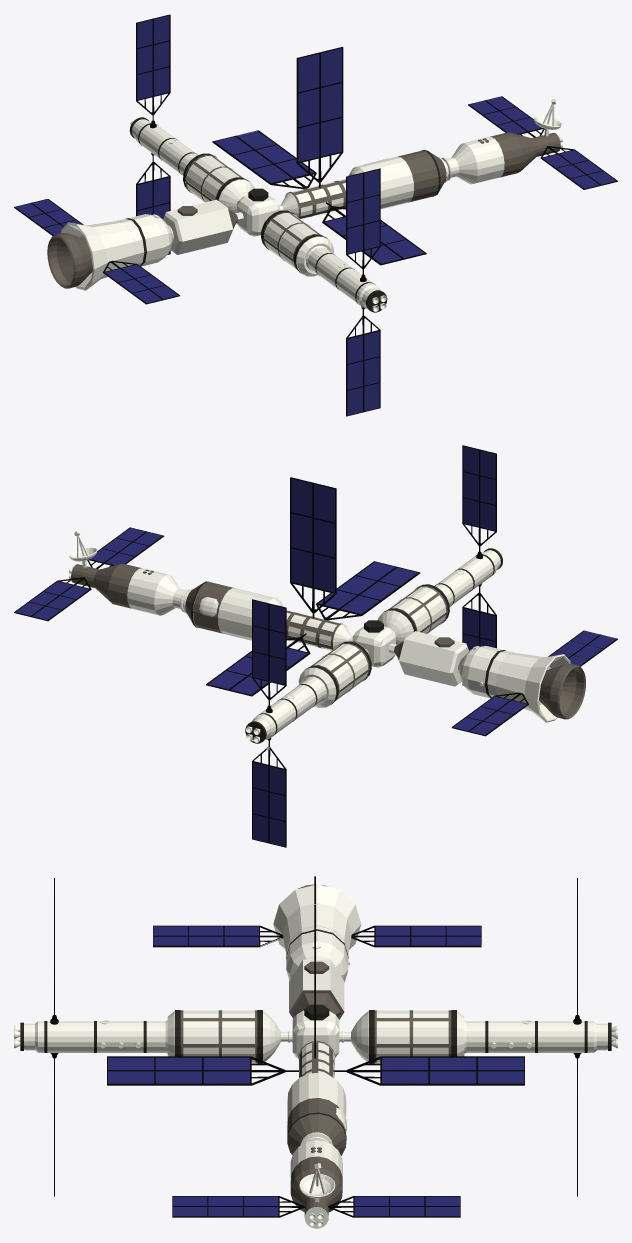
The model's file is kjz.obj.
3 renders of one model, top to bottom at view 1: azimuth 30°, elevation 25°; view 2: azimuth 150°, elevation 25°; view 3: azimuth 270°, elevation 25°, orthographic. The views are drawn at different scales.
Parts seen in each view (by area): view 1: Cone020; view 2: Cone020; view 3: Cone020.
Boxes of the visible parts, box(x1,y1,x2,y2) form: Cone020: box(14, 14, 617, 416); Cone020: box(14, 445, 617, 847); Cone020: box(14, 876, 617, 1228).
Size of the model in its own units: 25.2 by 12.9 by 21.19.
Materials: 1 (1 with a texture image).
